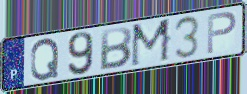3: (173, 15, 201, 61)
9: (67, 30, 95, 77)
B: (98, 25, 134, 72)
M: (129, 17, 173, 70)
P: (206, 10, 239, 56)
Q: (29, 37, 60, 82)
